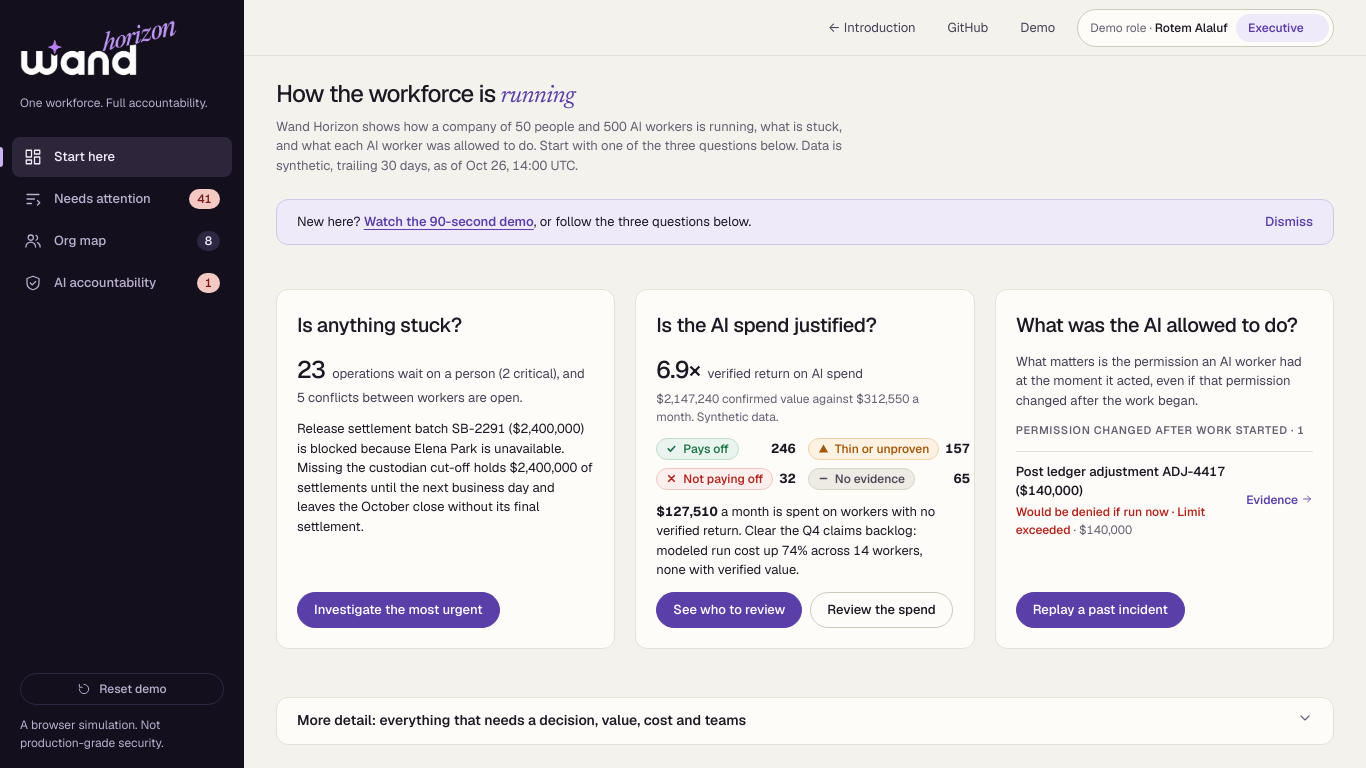
Test: One product, two missions › the first-run strip can be dismissed and stays dismissed
The width and height of the screenshot is (1366, 768).
Expected: the text "New here?" is shown, [297,213,364,230]
Click the button "Dismiss" at (1289, 222), box [1265,212,1313,232]
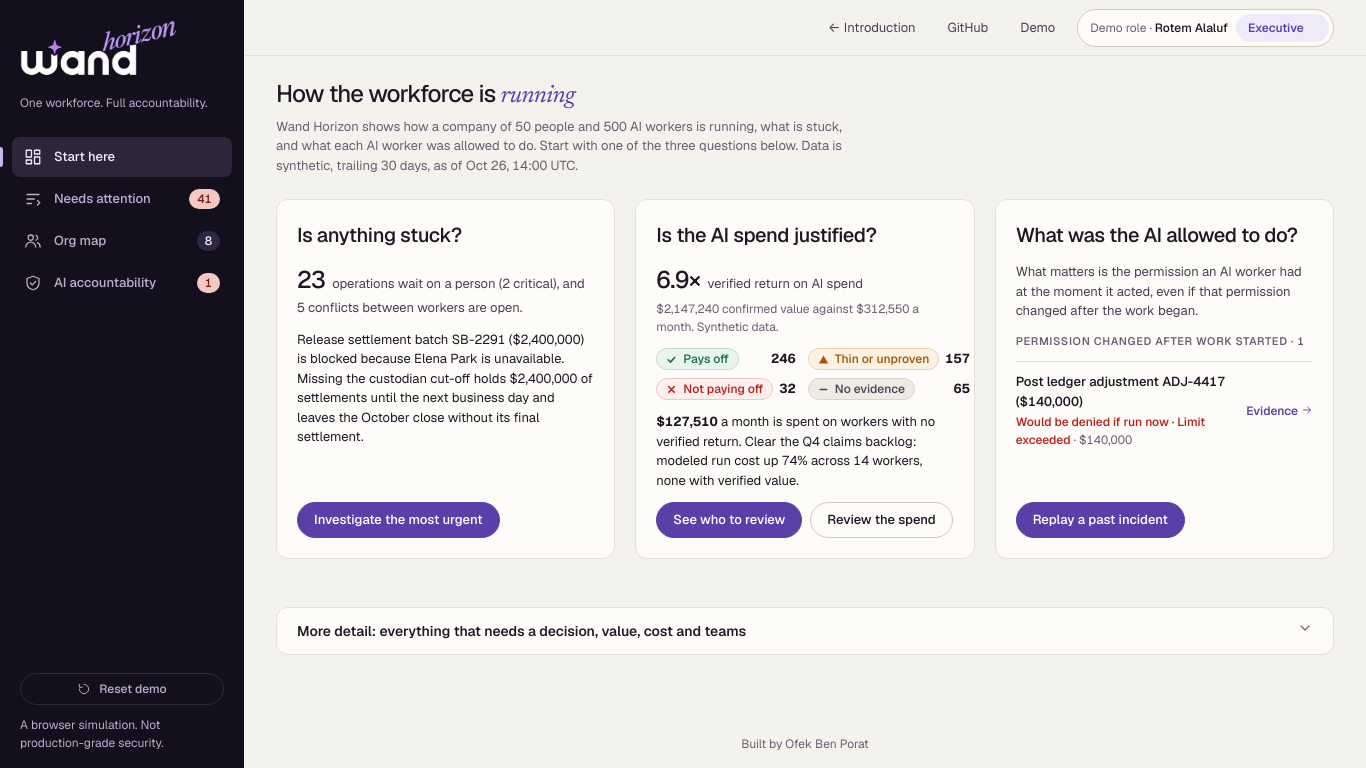
Now the text "New here?" is gone
